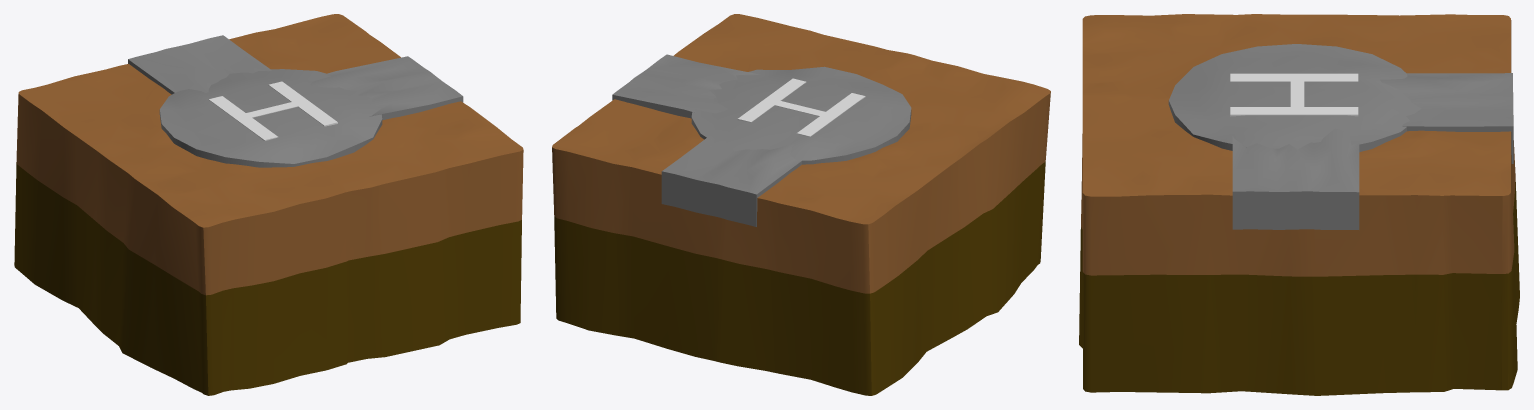
3 views of the same model, side by side, from view 1: azimuth 30°, elevation 25°; view 2: azimuth 150°, elevation 25°; view 3: azimuth 270°, elevation 25° (orthographic). The views are drawn at different scales.
Parts seen in each view (by area): view 1: ground1, pCylinder3, pPlane9, pPlane8, typeMesh1; view 2: ground1, pCylinder3, pPlane8, pPlane9, typeMesh1; view 3: ground1, pCylinder3, pPlane9, pPlane8, typeMesh1.
Part boxes in pixels (x1=…): ground1: x1=14, y1=14, x2=523, y2=395; pCylinder3: x1=159, y1=69, x2=382, y2=167; pPlane9: x1=311, y1=56, x2=463, y2=120; pPlane8: x1=128, y1=35, x2=271, y2=94; typeMesh1: x1=209, y1=81, x2=337, y2=141; ground1: x1=552, y1=14, x2=1050, y2=395; pCylinder3: x1=691, y1=66, x2=911, y2=164; pPlane8: x1=661, y1=136, x2=801, y2=226; pPlane9: x1=612, y1=54, x2=759, y2=118; typeMesh1: x1=737, y1=78, x2=865, y2=136; ground1: x1=1079, y1=14, x2=1519, y2=395; pCylinder3: x1=1168, y1=44, x2=1421, y2=152; pPlane9: x1=1232, y1=128, x2=1359, y2=229; pPlane8: x1=1380, y1=73, x2=1513, y2=163; typeMesh1: x1=1230, y1=73, x2=1358, y2=116.
Bounding box in the file's own units: 20.78 × 10.72 × 20.34.
